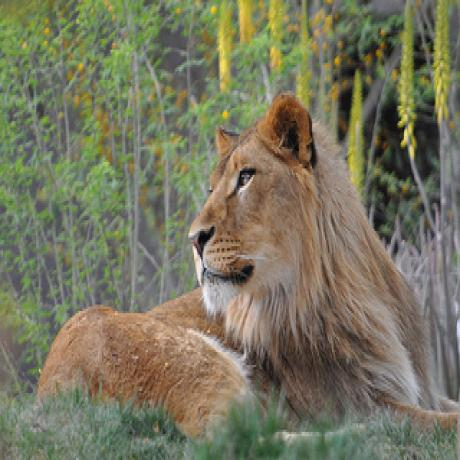Lion: (34, 93, 458, 440)
